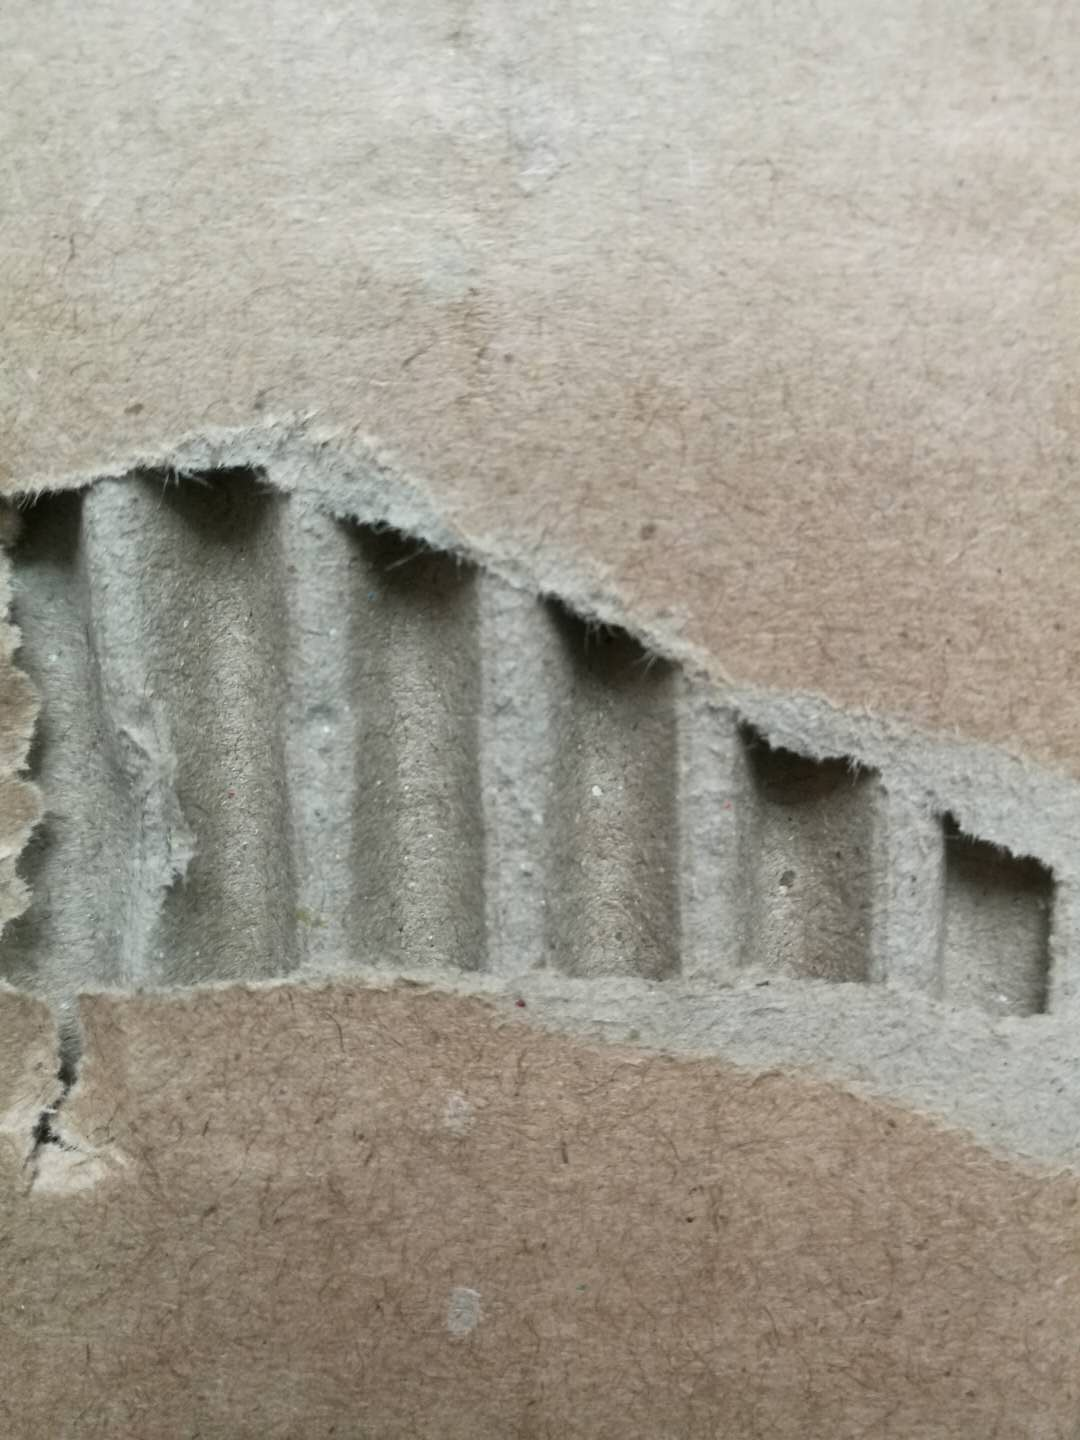defect: (2, 336, 1080, 1243)
